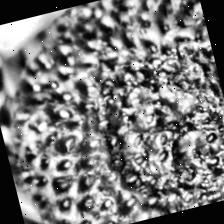Anthracnose Fruit Rot: (36, 11, 224, 224)
